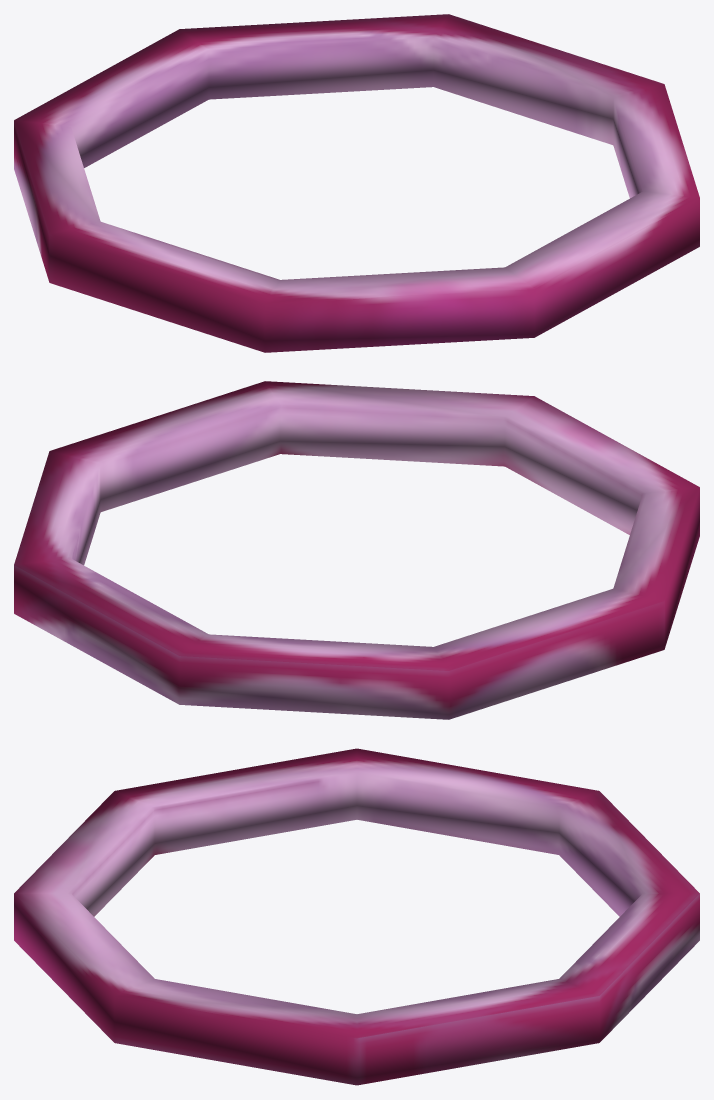
File: onionslice.fbx
The picture shows the model from 3 angles, top to bottom: view 1: azimuth 30°, elevation 25°; view 2: azimuth 150°, elevation 25°; view 3: azimuth 270°, elevation 25°; orthographic projection. The views are drawn at different scales.
Visible parts, largest first — view 1: onionslice; view 2: onionslice; view 3: onionslice.
Boxes of the visible parts, x1,y1,x2,y2 form: onionslice: [14, 14, 699, 352]; onionslice: [14, 381, 699, 719]; onionslice: [14, 748, 699, 1085].
Size of the model in its own units: 15.86 by 1.2 by 15.86.
